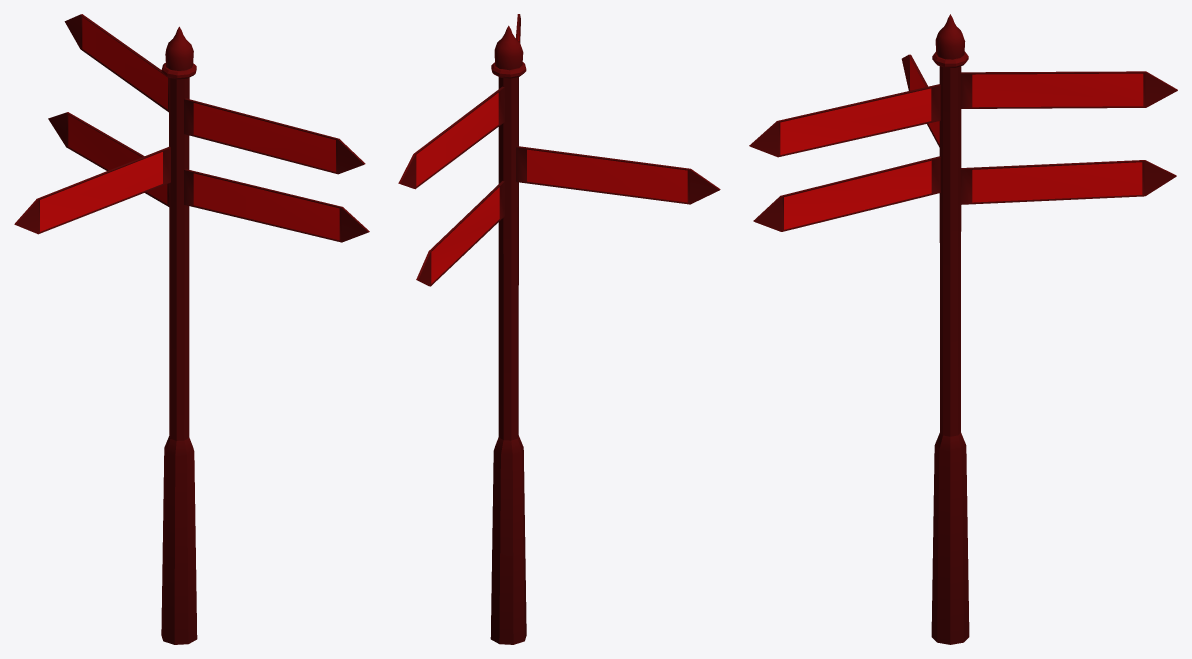
The model's file is Signpost004.glb.
The picture shows the model from 3 angles, left to right: view 1: azimuth 30°, elevation 25°; view 2: azimuth 150°, elevation 25°; view 3: azimuth 270°, elevation 25°; orthographic projection.
Visible parts, largest first — view 1: Signpost004; view 2: Signpost004; view 3: Signpost004.
Boxes of the visible parts, left/top/right/bottom form: Signpost004: left=14, top=14, right=369, bottom=644; Signpost004: left=398, top=14, right=720, bottom=644; Signpost004: left=749, top=14, right=1177, bottom=644.
Size of the model in its own units: 6.91 by 14.42 by 8.91.
